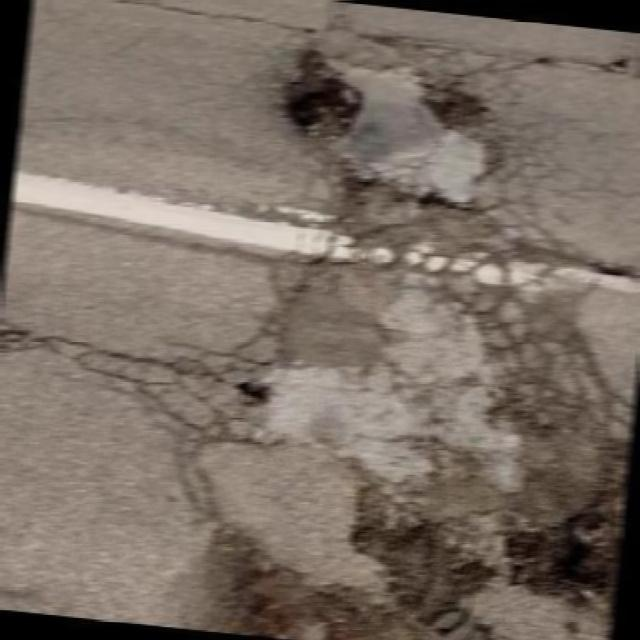Pothole: (175, 349, 640, 640), (283, 158, 519, 261), (264, 33, 368, 160), (414, 49, 503, 158)
